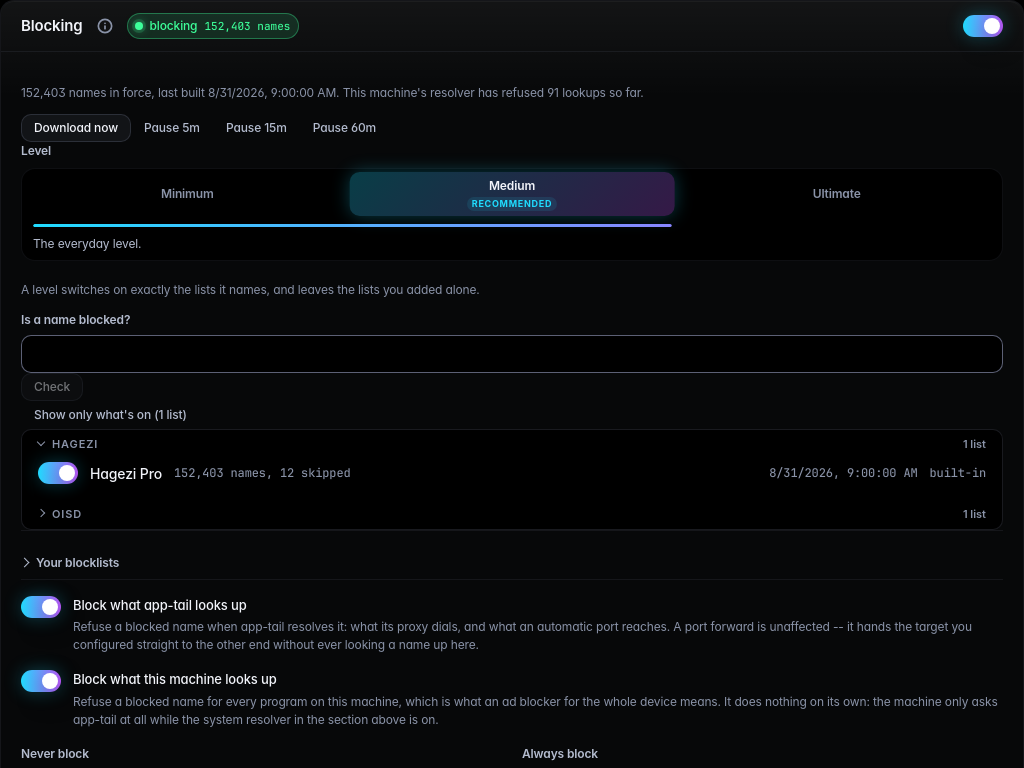
Test case: what each list contributed › opens the groups holding an enabled list and leaves the rest shut
Click the button "OISD 1 list". click: (67, 514)
box: x1=26 y1=494 x2=998 y2=524
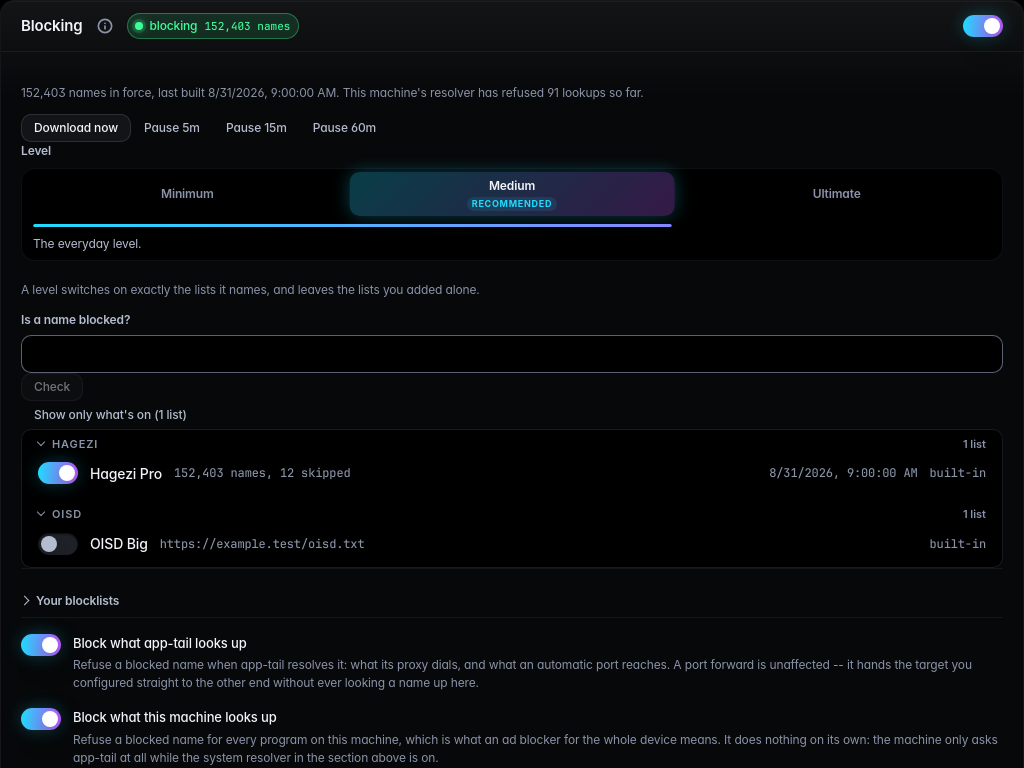
Result: the checkbox named "Use OISD Big" is shown at x1=38 y1=532 x2=78 y2=554
